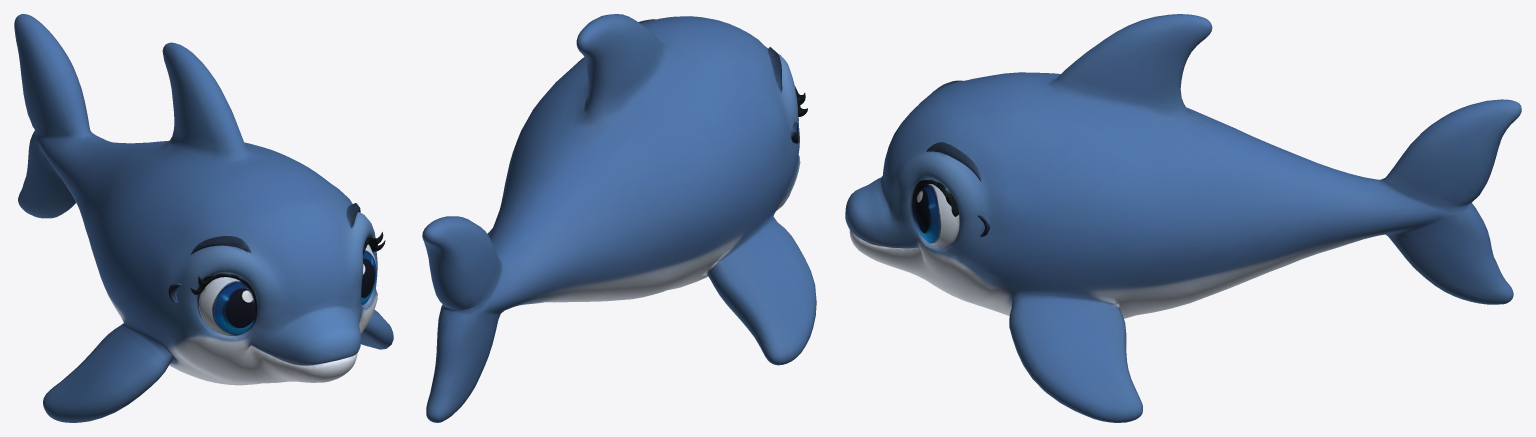
Rendered from dolphin.glb.
3 renders of one model, left to right at view 1: azimuth 30°, elevation 25°; view 2: azimuth 150°, elevation 25°; view 3: azimuth 270°, elevation 25°, orthographic. The views are drawn at different scales.
Parts seen in each view (by area): view 1: tripo_node_0399d1bd-cc2d-4e4c-8b0b-e304615733ba; view 2: tripo_node_0399d1bd-cc2d-4e4c-8b0b-e304615733ba; view 3: tripo_node_0399d1bd-cc2d-4e4c-8b0b-e304615733ba.
Boxes of the visible parts, x1,y1,x2,y2 form: tripo_node_0399d1bd-cc2d-4e4c-8b0b-e304615733ba: [14, 14, 393, 422]; tripo_node_0399d1bd-cc2d-4e4c-8b0b-e304615733ba: [422, 14, 816, 422]; tripo_node_0399d1bd-cc2d-4e4c-8b0b-e304615733ba: [845, 14, 1521, 422].
Bounding box in the file's own units: 0.5864 × 0.5337 × 0.9995.
Materials: 1 (1 with a texture image).
